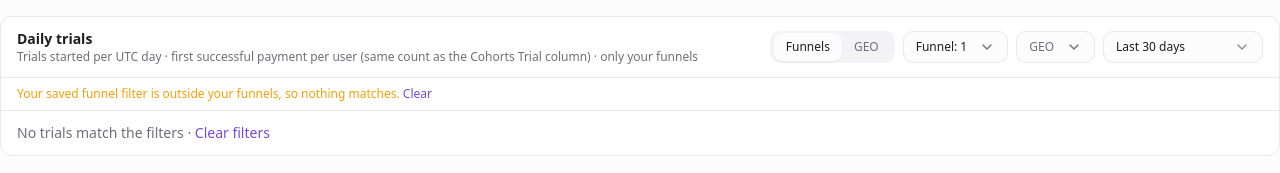
funnel-restricted paths › a saved funnel filter wholly outside the member's funnels: the notice says nothing matches, Clear drops it
Expected: the element with test id "trials-out-of-scope-funnels" shows "Your saved funnel filter is outside your funnels, so nothing matches.", top-left (17, 85), bottom-right (400, 102)
Click the button "Clear" at (417, 94), box top-left (403, 86), bottom-right (432, 102)
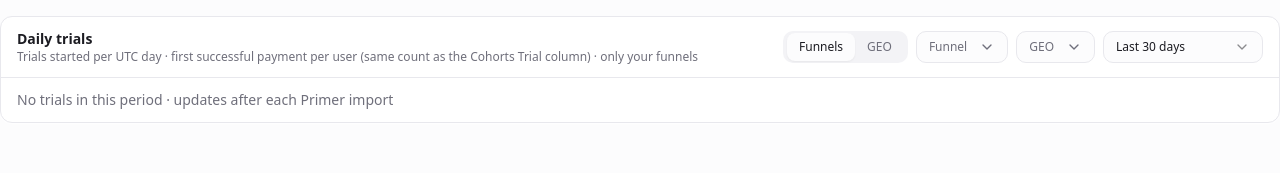
Expected: the element with test id "trials-out-of-scope-funnels" is gone
